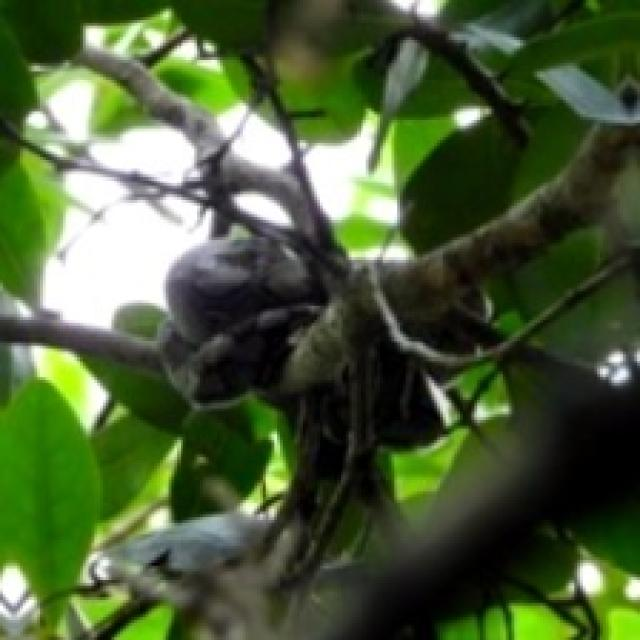reticulated python: (161, 238, 325, 401)
